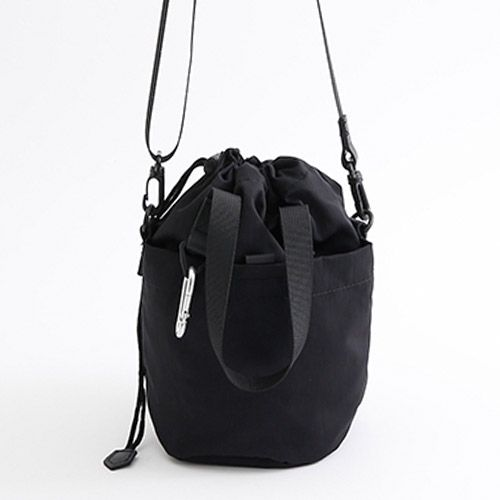nylon: (137, 148, 374, 468)
